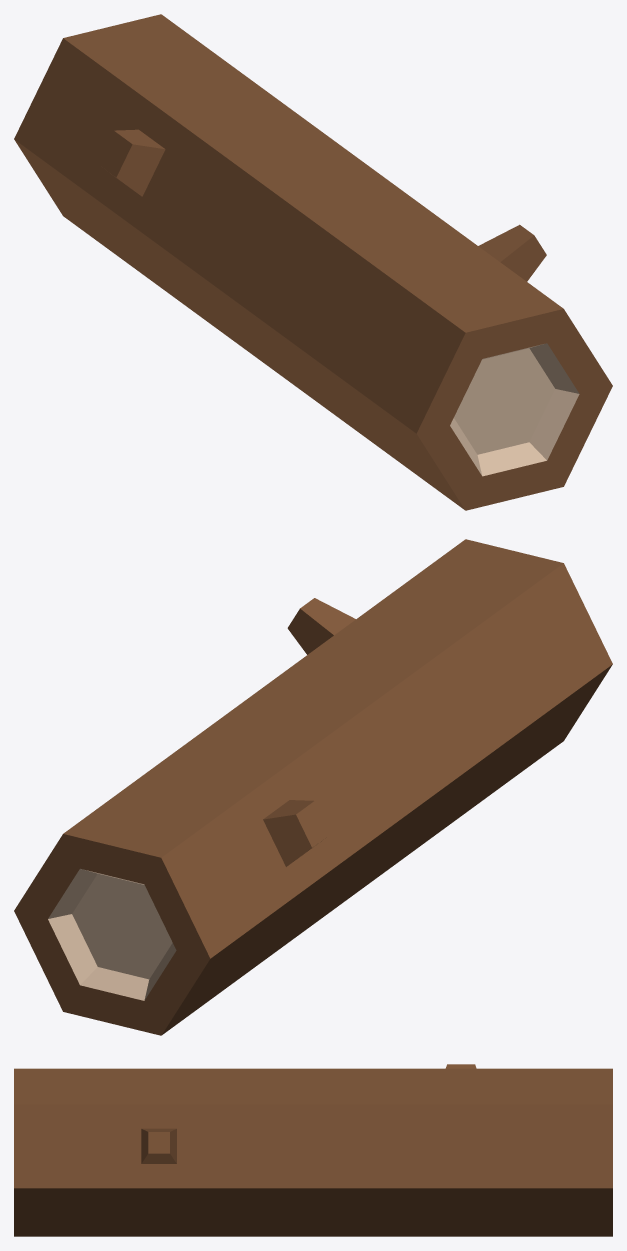
Rendered from log.glb.
The picture shows the model from 3 angles, top to bottom: view 1: azimuth 30°, elevation 25°; view 2: azimuth 150°, elevation 25°; view 3: azimuth 270°, elevation 25°; orthographic projection. The views are drawn at different scales.
Parts seen in each view (by area): view 1: log; view 2: log; view 3: log.
Boxes of the visible parts, x1,y1,x2,y2 form: log: [14, 14, 612, 510]; log: [14, 539, 612, 1035]; log: [14, 1064, 612, 1236].
Bounding box in the file's own units: 0.234 × 0.1732 × 0.71.
